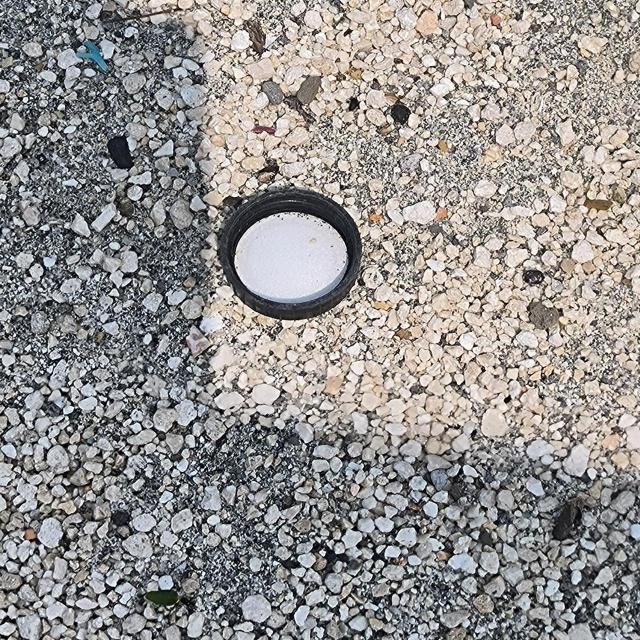plastic_waste: (217, 190, 365, 320)
